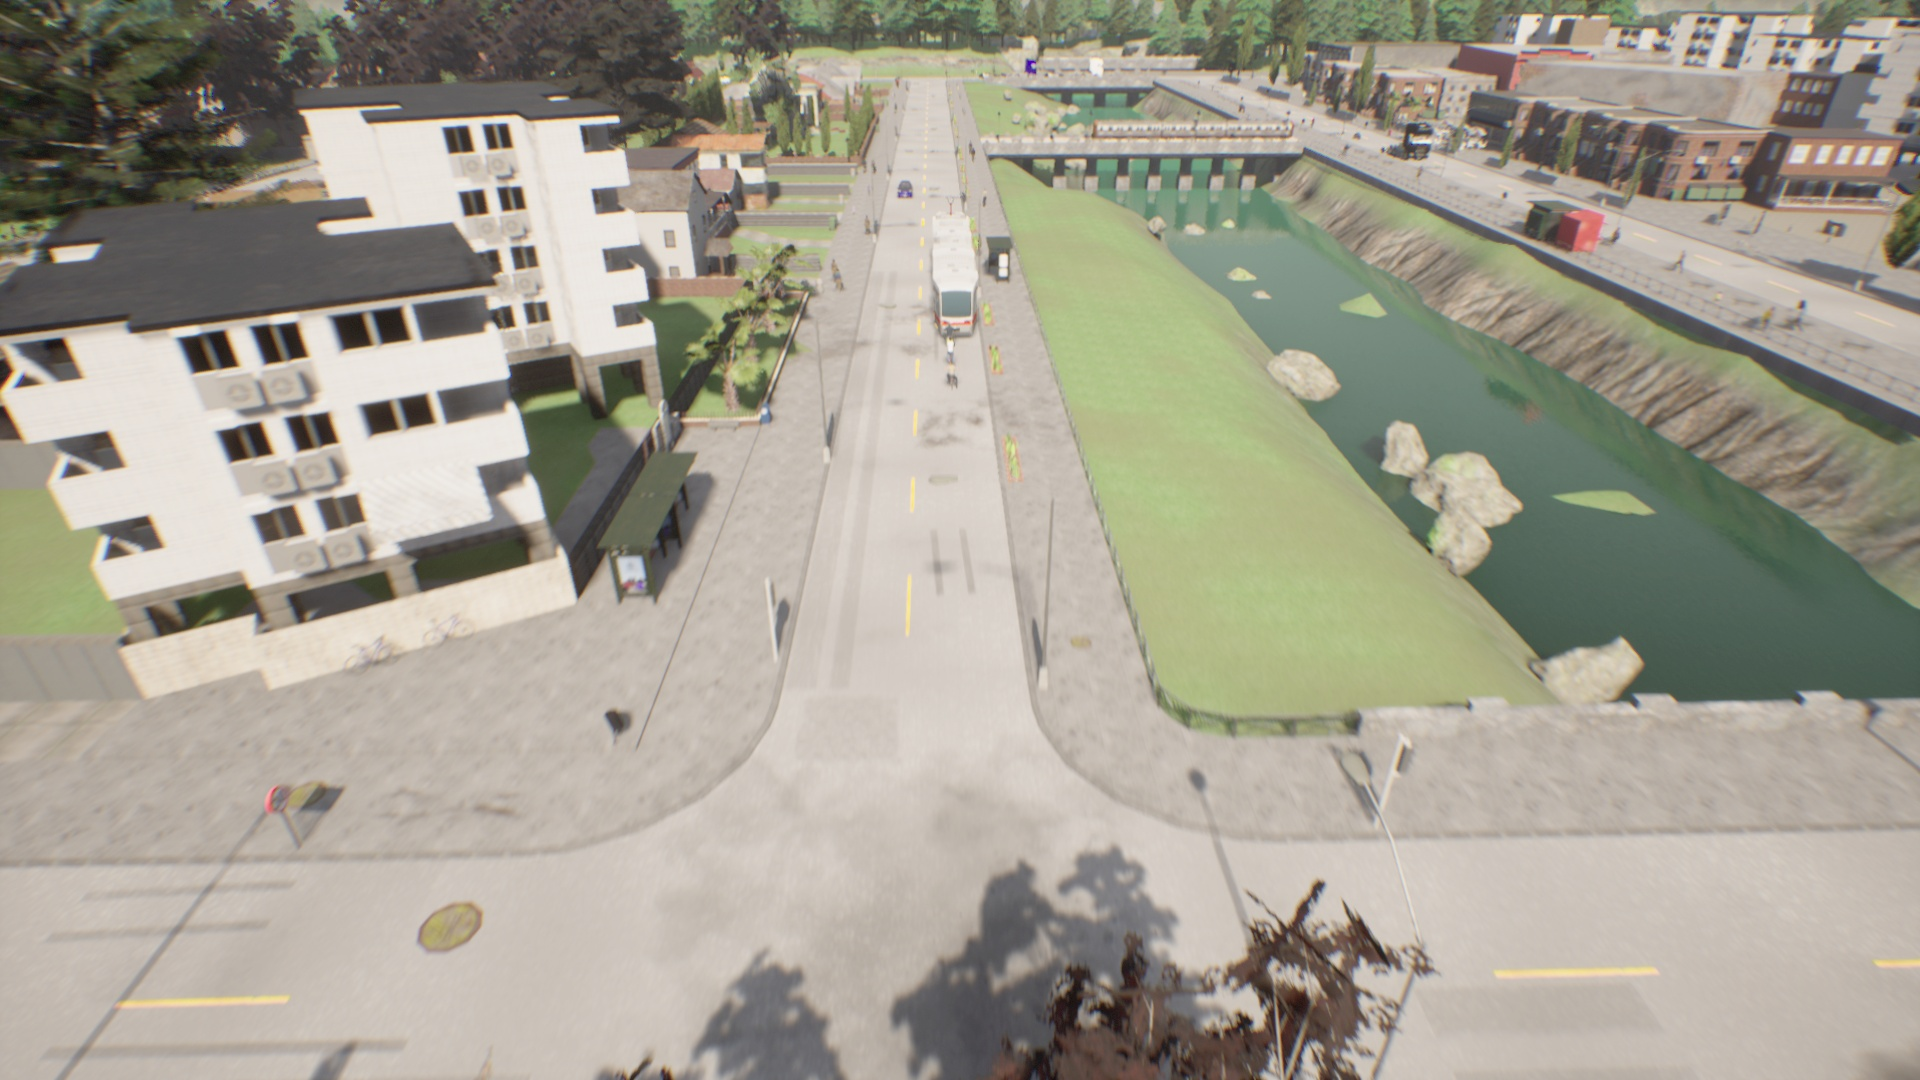Bus: (929, 205, 971, 339)
Car: (892, 181, 917, 200), (1042, 72, 1067, 80), (983, 72, 1001, 79)
Motorcycle: (939, 366, 967, 390), (935, 340, 966, 361), (1351, 131, 1372, 138)
Truck: (1384, 126, 1435, 163), (1074, 58, 1106, 80), (1011, 63, 1037, 78)
